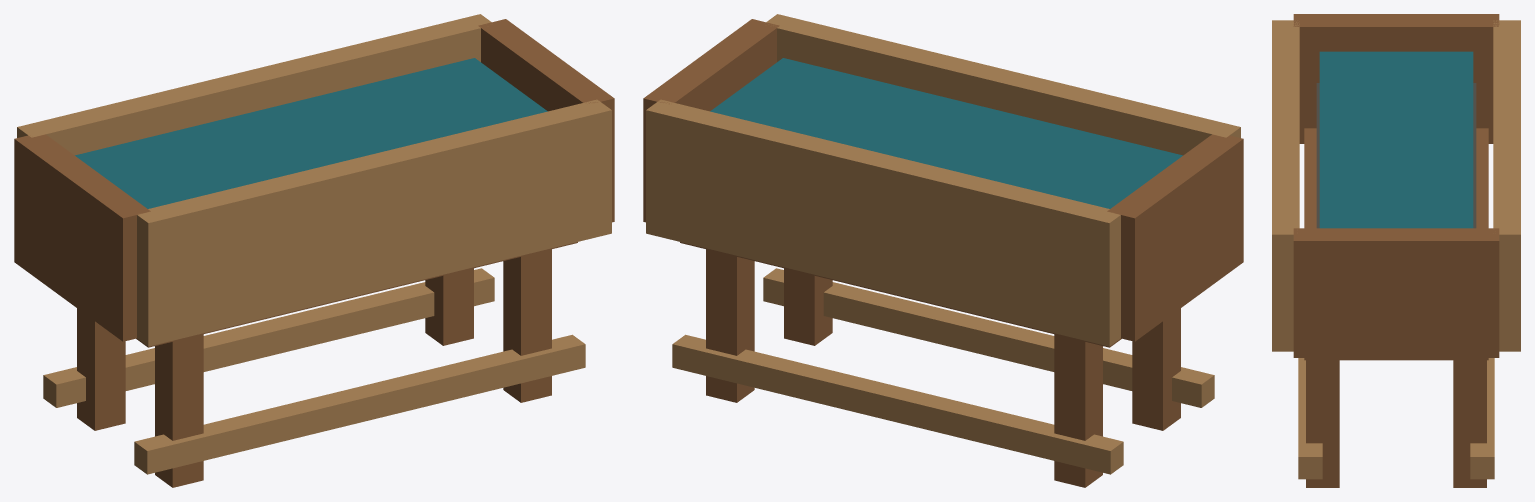
File: cocho.glb
3 renders of one model, left to right at view 1: azimuth 30°, elevation 25°; view 2: azimuth 150°, elevation 25°; view 3: azimuth 270°, elevation 25°, orthographic. The views are drawn at different scales.
Visible parts, largest first — view 1: Coxo | lateral, Coxo | água, Coxo | lateral.001, Coxo | cabeceira, Coxo | travessa inferior, Coxo | travessa inferior.001, Coxo | cabeceira.001, Coxo | pé, Coxo | pé.002, Coxo | pé.001, Coxo | pé.003, Coxo | fundo; view 2: Coxo | lateral.001, Coxo | água, Coxo | lateral, Coxo | cabeceira, Coxo | travessa inferior.001, Coxo | travessa inferior, Coxo | cabeceira.001, Coxo | pé.001, Coxo | pé.003, Coxo | pé, Coxo | pé.002, Coxo | fundo; view 3: Coxo | água, Coxo | cabeceira.001, Coxo | cabeceira, Coxo | lateral.001, Coxo | lateral, Coxo | pé.002, Coxo | pé.003, Coxo | fundo, Coxo | travessa inferior, Coxo | travessa inferior.001, Coxo | interior escuro.
Part boxes in pixels (x1,y1,x2,y2): Coxo | lateral: [137, 99, 611, 346]; Coxo | água: [75, 58, 547, 208]; Coxo | lateral.001: [17, 14, 491, 155]; Coxo | cabeceira: [14, 134, 150, 341]; Coxo | travessa inferior: [134, 334, 585, 474]; Coxo | travessa inferior.001: [43, 268, 494, 407]; Coxo | cabeceira.001: [478, 19, 614, 222]; Coxo | pé: [155, 334, 203, 487]; Coxo | pé.002: [503, 249, 551, 402]; Coxo | pé.001: [77, 308, 125, 430]; Coxo | pé.003: [425, 268, 473, 345]; Coxo | fundo: [136, 242, 577, 347]; Coxo | lateral.001: [646, 99, 1120, 346]; Coxo | água: [710, 58, 1182, 208]; Coxo | lateral: [766, 14, 1240, 155]; Coxo | cabeceira: [1107, 134, 1243, 341]; Coxo | travessa inferior.001: [672, 334, 1123, 474]; Coxo | travessa inferior: [763, 268, 1214, 407]; Coxo | cabeceira.001: [643, 19, 779, 222]; Coxo | pé.001: [1054, 334, 1102, 487]; Coxo | pé.003: [706, 249, 754, 402]; Coxo | pé: [1132, 308, 1180, 430]; Coxo | pé.002: [784, 268, 832, 345]; Coxo | fundo: [680, 242, 1121, 347]; Coxo | água: [1319, 51, 1473, 228]; Coxo | cabeceira.001: [1293, 228, 1499, 357]; Coxo | cabeceira: [1293, 14, 1499, 143]; Coxo | lateral.001: [1493, 20, 1520, 351]; Coxo | lateral: [1272, 20, 1299, 351]; Coxo | pé.002: [1306, 360, 1339, 487]; Coxo | pé.003: [1453, 360, 1486, 487]; Coxo | fundo: [1304, 128, 1488, 360]; Coxo | travessa inferior: [1298, 358, 1322, 479]; Coxo | travessa inferior.001: [1470, 358, 1494, 479]; Coxo | interior escuro: [1316, 83, 1476, 228].
Size of the model in its own units: 1.75 by 0.98 by 0.81.
